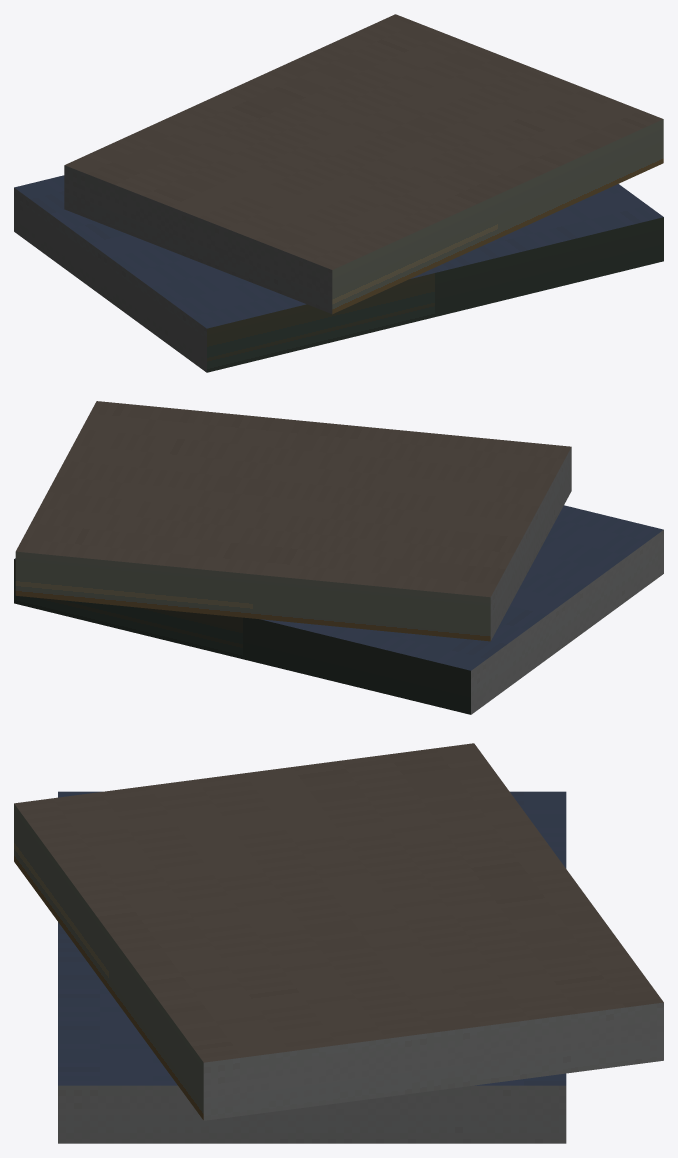
The model's file is prop_textbook-1.glb.
The picture shows the model from 3 angles, top to bottom: view 1: azimuth 30°, elevation 25°; view 2: azimuth 150°, elevation 25°; view 3: azimuth 270°, elevation 25°; orthographic projection. The views are drawn at different scales.
Visible parts, largest first — view 1: prop_textbook-1; view 2: prop_textbook-1; view 3: prop_textbook-1.
Part boxes in pixels (bbox=[...]): prop_textbook-1: bbox=[14, 14, 663, 372]; prop_textbook-1: bbox=[14, 401, 663, 714]; prop_textbook-1: bbox=[14, 743, 663, 1143].
Size of the model in its own units: 0.2912 by 0.048 by 0.2429.
4 materials, 4 textured.
